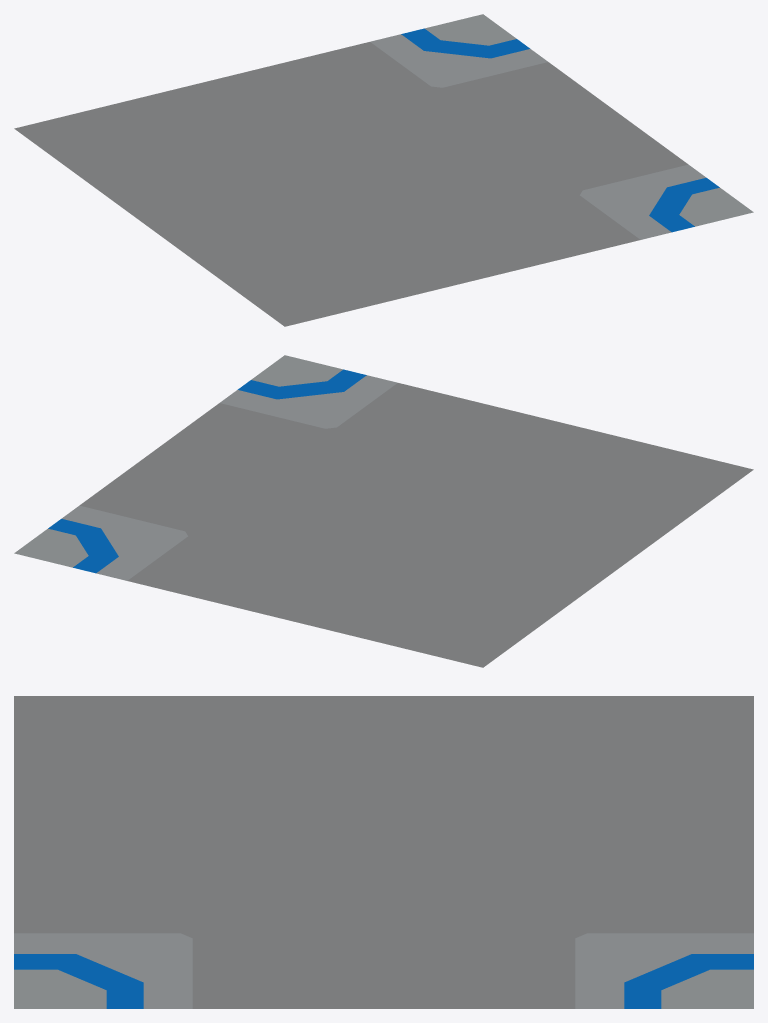
The model's file is Ceiling_type_B_003.fbx.
3 renders of one model, top to bottom at view 1: azimuth 30°, elevation 25°; view 2: azimuth 150°, elevation 25°; view 3: azimuth 270°, elevation 25°, orthographic. The views are drawn at different scales.
Parts seen in each view (by area): view 1: Ceiling_type_B_003; view 2: Ceiling_type_B_003; view 3: Ceiling_type_B_003.
Part boxes in pixels (<box>): Ceiling_type_B_003: <box>14,14,753,326</box>; Ceiling_type_B_003: <box>14,355,753,667</box>; Ceiling_type_B_003: <box>14,696,753,1008</box>.
Size of the model in its own units: 400 by 400 by 4.55.
